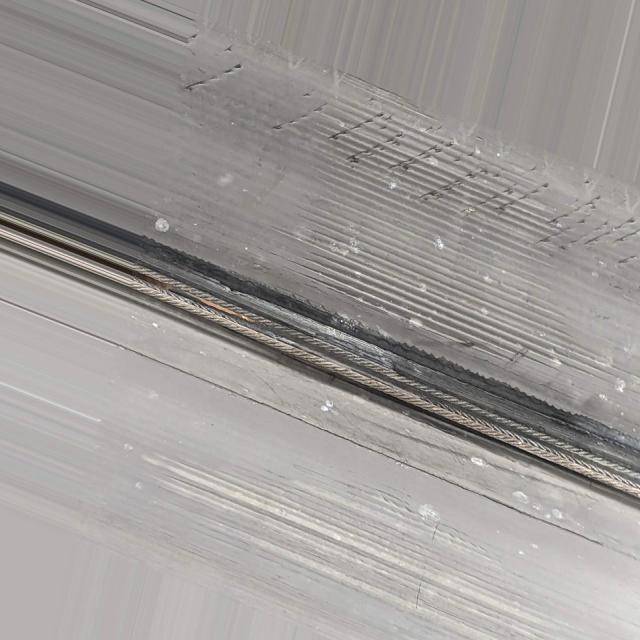Tear: (190, 35, 640, 297)
impact damage: (130, 237, 640, 508), (274, 192, 626, 402)
